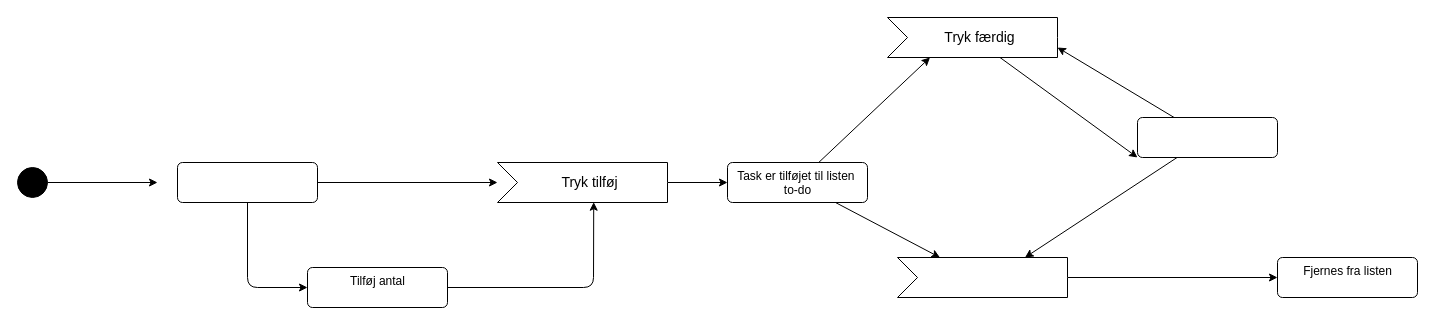
This 1435x325 diagram has some shape labels left out. The centre of each missing label's shape, as x and y in pixels:
Skriv en tilføjelse: the point at 247,182
Task er tilføjet til listen færdig: the point at 1207,137
Tryk slet: the point at 982,277
